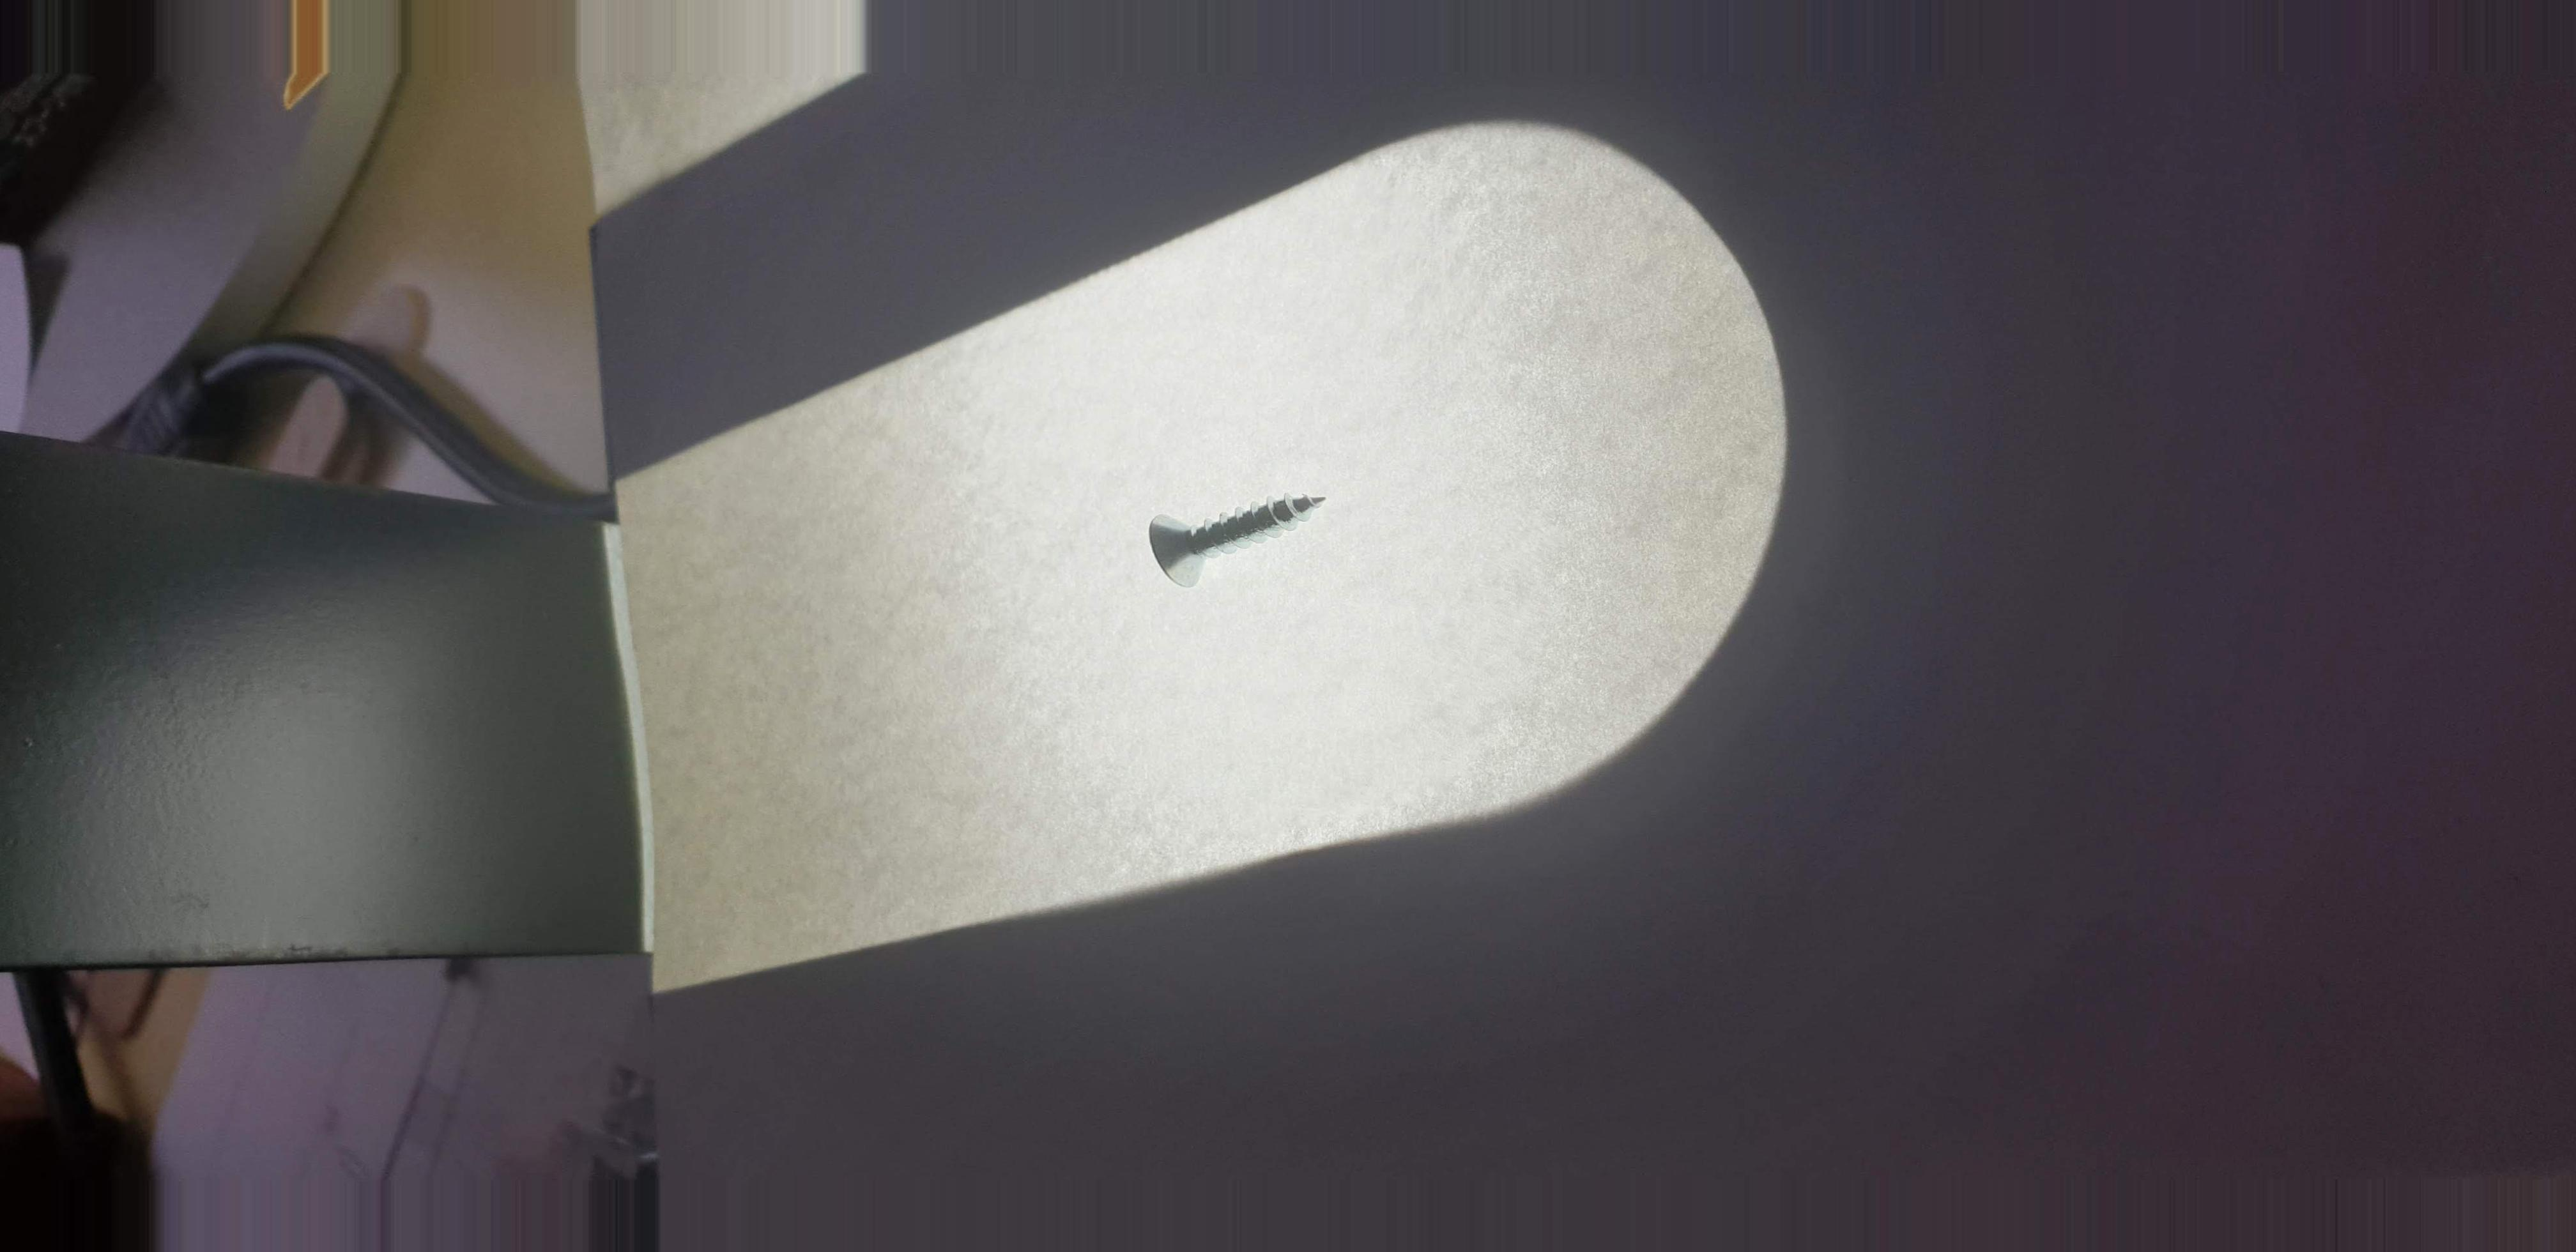S003: (1127, 468, 1352, 614)
